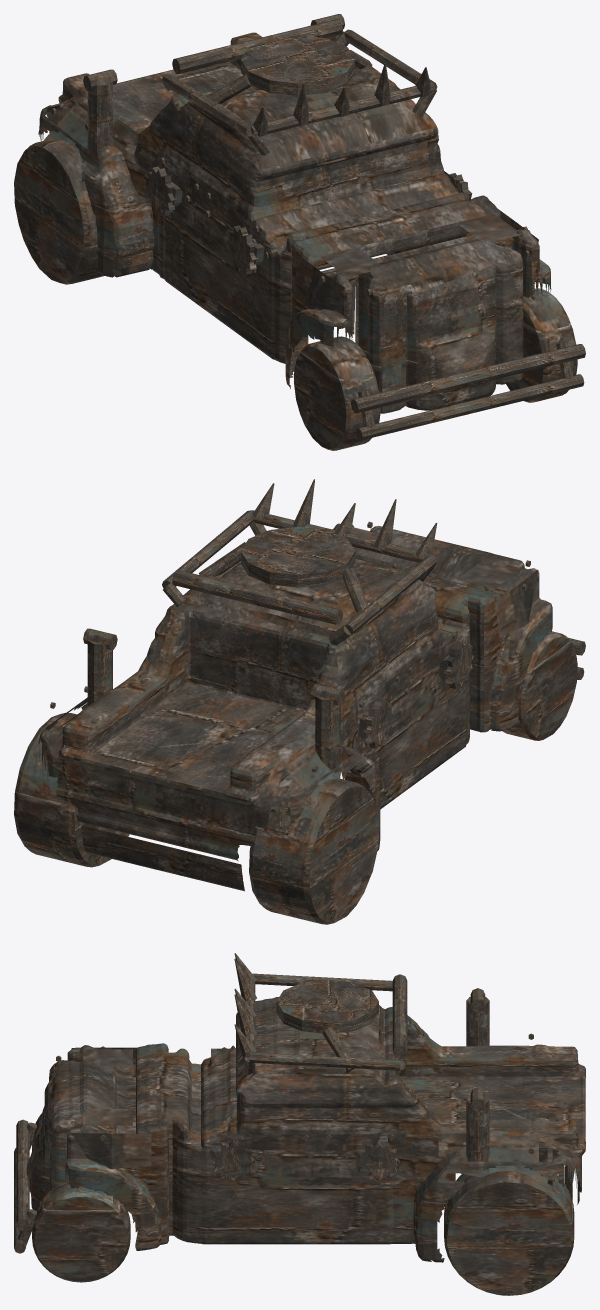
File: rattler.glb
3 views of the same model, one above another, from view 1: azimuth 30°, elevation 25°; view 2: azimuth 150°, elevation 25°; view 3: azimuth 270°, elevation 25° (orthographic). The views are drawn at different scales.
Parts seen in each view (by area): view 1: kit-full-plating-painted-metal, kit-bull-bar-painted-metal, kit-turret-mount-painted-metal, kit-cage-painted-metal, warlord-crossbar, kit-stack-0-painted-metal, kit-scrapper-painted-metal, kit-plate-3-painted-metal, kit-plate-2-painted-metal, kit-crown-painted-metal, kit-saw-1-guard-painted-metal, kit-saw-0-guard-painted-metal (+1 smaller); view 2: kit-full-plating-painted-metal, kit-turret-mount-painted-metal, kit-cage-painted-metal, warlord-crossbar, kit-scrapper-painted-metal, kit-stack-0-painted-metal, kit-crown-painted-metal, kit-stack-1-painted-metal, kit-plate-2-painted-metal, kit-plate-3-painted-metal, kit-saw-1-guard-painted-metal, kit-saw-0-guard-painted-metal (+1 smaller); view 3: kit-full-plating-painted-metal, kit-turret-mount-painted-metal, kit-scrapper-painted-metal, kit-cage-painted-metal, kit-plate-1-painted-metal, kit-plate-0-painted-metal, kit-bull-bar-painted-metal, kit-raider-painted-metal, kit-stack-1-painted-metal, kit-crown-painted-metal, kit-saw-1-painted-metal, kit-saw-0-painted-metal (+2 smaller).
Part boxes in pixels (left/top/right/bottom): kit-full-plating-painted-metal: left=14, top=32, right=577, bottom=450; kit-bull-bar-painted-metal: left=351, top=341, right=585, bottom=440; kit-turret-mount-painted-metal: left=201, top=35, right=372, bottom=111; kit-cage-painted-metal: left=162, top=29, right=437, bottom=155; warlord-crossbar: left=172, top=19, right=342, bottom=73; kit-stack-0-painted-metal: left=83, top=69, right=117, bottom=156; kit-scrapper-painted-metal: left=158, top=152, right=461, bottom=244; kit-plate-3-painted-metal: left=43, top=96, right=138, bottom=163; kit-plate-2-painted-metal: left=293, top=255, right=371, bottom=310; kit-crown-painted-metal: left=253, top=63, right=431, bottom=136; kit-saw-1-guard-painted-metal: left=228, top=225, right=264, bottom=274; kit-saw-0-guard-painted-metal: left=146, top=166, right=182, bottom=215; kit-full-plating-painted-metal: left=14, top=523, right=577, bottom=924; kit-turret-mount-painted-metal: left=199, top=527, right=367, bottom=613; kit-cage-painted-metal: left=162, top=510, right=437, bottom=645; warlord-crossbar: left=172, top=570, right=343, bottom=624; kit-scrapper-painted-metal: left=351, top=628, right=461, bottom=740; kit-stack-0-painted-metal: left=310, top=684, right=344, bottom=769; kit-crown-painted-metal: left=253, top=479, right=437, bottom=558; kit-stack-1-painted-metal: left=83, top=628, right=117, bottom=705; kit-plate-2-painted-metal: left=495, top=560, right=538, bottom=637; kit-plate-3-painted-metal: left=279, top=733, right=342, bottom=805; kit-saw-1-guard-painted-metal: left=439, top=639, right=474, bottom=688; kit-saw-0-guard-painted-metal: left=358, top=699, right=393, bottom=748; kit-full-plating-painted-metal: left=27, top=997, right=585, bottom=1295; kit-turret-mount-painted-metal: left=276, top=979, right=378, bottom=1073; kit-scrapper-painted-metal: left=211, top=1047, right=405, bottom=1168; kit-cage-painted-metal: left=244, top=973, right=405, bottom=1076; kit-plate-1-painted-metal: left=438, top=1133, right=538, bottom=1181; kit-plate-0-painted-metal: left=56, top=1124, right=151, bottom=1168; kit-bull-bar-painted-metal: left=14, top=1119, right=36, bottom=1253; kit-raider-painted-metal: left=205, top=1151, right=455, bottom=1181; kit-stack-1-painted-metal: left=466, top=1087, right=489, bottom=1161; kit-crown-painted-metal: left=234, top=953, right=257, bottom=1057; kit-saw-1-painted-metal: left=209, top=1139, right=255, bottom=1181; kit-saw-0-painted-metal: left=354, top=1140, right=399, bottom=1182.
Size of the model in its own units: 2.48 by 2.28 by 4.64.
Materials: 1 (1 with a texture image).
